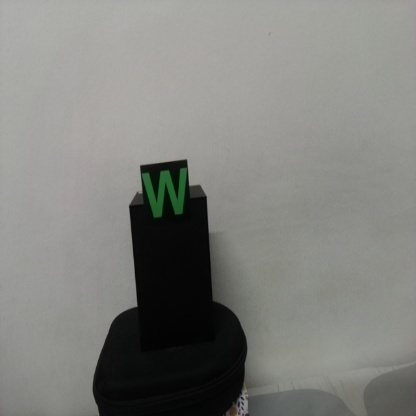id_12: (138, 164, 191, 227)
